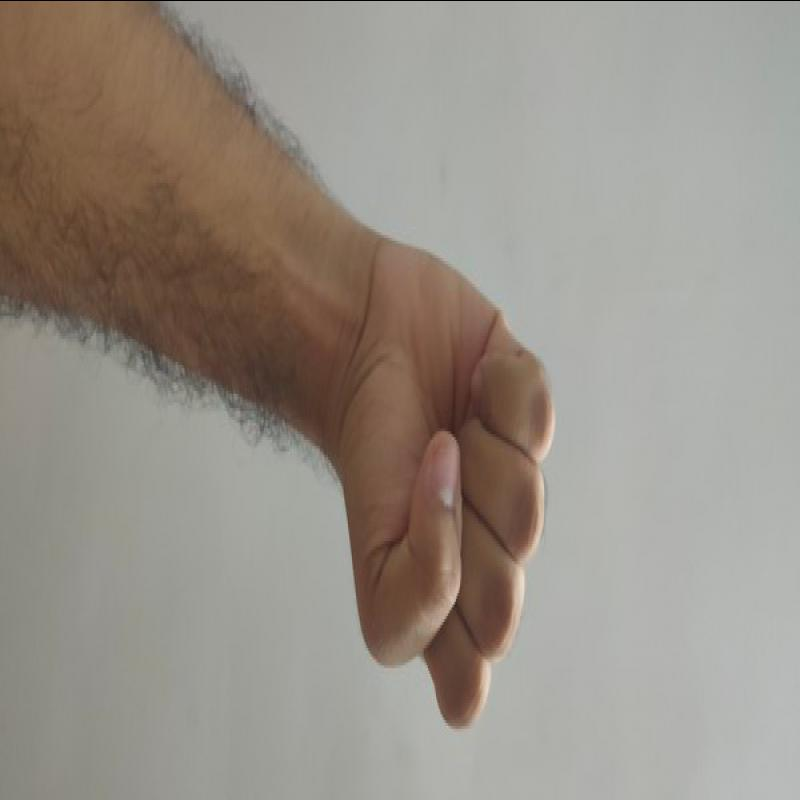Mushti: (316, 222, 582, 750)
